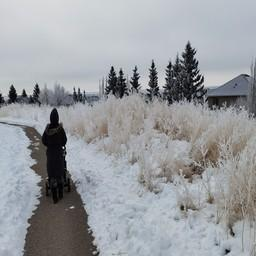Snow: (65, 133, 245, 255), (0, 123, 42, 255), (207, 76, 251, 96), (1, 118, 45, 135), (208, 89, 214, 93)
